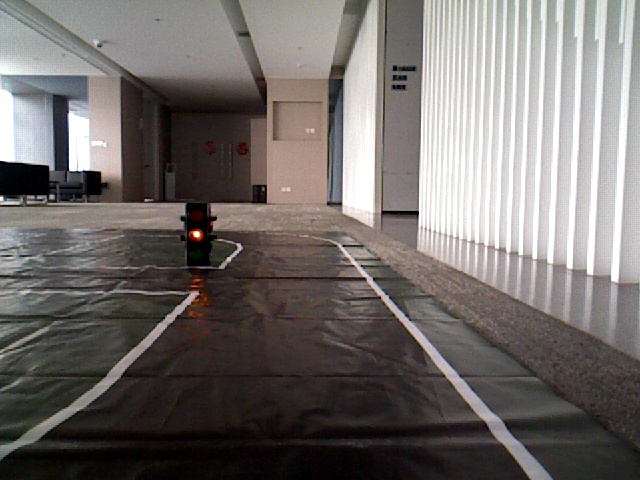yellow: (183, 202, 211, 264)
